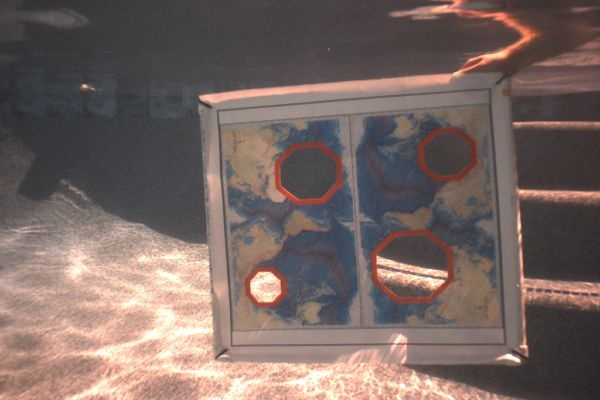torpille: (198, 72, 528, 365)
torpille_target: (370, 230, 454, 303), (274, 142, 344, 204), (418, 127, 476, 181), (244, 268, 286, 306)
